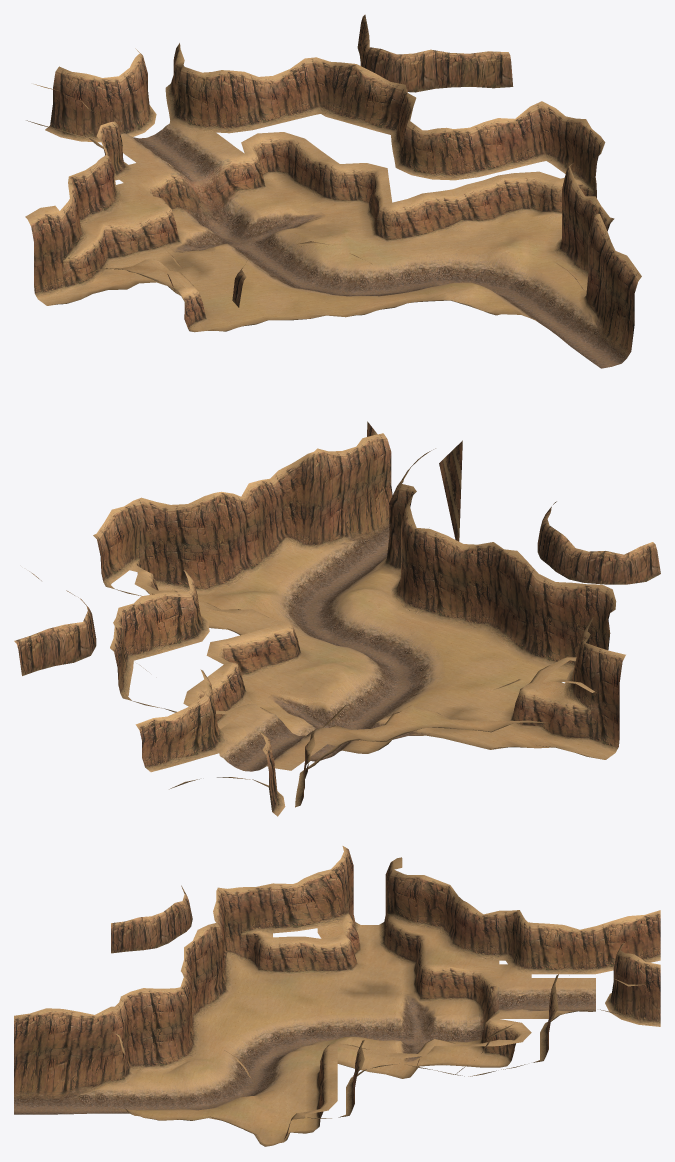
The model's file is Zone02.glb.
The picture shows the model from 3 angles, top to bottom: view 1: azimuth 30°, elevation 25°; view 2: azimuth 150°, elevation 25°; view 3: azimuth 270°, elevation 25°; orthographic projection. The views are drawn at different scales.
Visible parts, largest first — view 1: ZONE02118, ZONE02184, ZONE02193, ZONE02203, ZONE02198, ZONE02119, ZONE02008, ZONE02166, ZONE02114, ZONE02002, ZONE02177, ZONE02162 (+72 smaller); view 2: ZONE02067, ZONE02052, ZONE02101, ZONE02014, ZONE02033, ZONE02032, ZONE02042, ZONE02043, ZONE02102, ZONE02015, ZONE02005, ZONE02034 (+63 smaller); view 3: ZONE02003, ZONE02, ZONE02006, ZONE02022, ZONE02054, ZONE02206, ZONE02012, ZONE02180, ZONE02133, ZONE02158, ZONE02011, ZONE02070 (+85 smaller).
Boxes of the visible parts, x1,y1,x2,y2 form: ZONE02118: [25, 205, 72, 302]; ZONE02184: [209, 70, 252, 133]; ZONE02193: [162, 67, 209, 141]; ZONE02203: [45, 66, 83, 139]; ZONE02198: [84, 76, 123, 142]; ZONE02119: [60, 202, 102, 294]; ZONE02008: [574, 214, 610, 331]; ZONE02166: [365, 66, 404, 134]; ZONE02114: [435, 127, 477, 180]; ZONE02002: [609, 256, 641, 357]; ZONE02177: [326, 62, 365, 125]; ZONE02162: [214, 153, 261, 219]; ZONE02067: [159, 501, 207, 593]; ZONE02052: [207, 491, 256, 592]; ZONE02101: [579, 646, 625, 756]; ZONE02014: [294, 448, 344, 572]; ZONE02033: [416, 529, 463, 627]; ZONE02032: [448, 542, 493, 634]; ZONE02042: [525, 574, 571, 671]; ZONE02043: [493, 558, 538, 663]; ZONE02102: [547, 645, 594, 748]; ZONE02015: [270, 454, 307, 553]; ZONE02005: [342, 438, 380, 545]; ZONE02034: [384, 523, 429, 619]; ZONE02003: [46, 1008, 79, 1099]; ZONE02: [14, 1008, 46, 1099]; ZONE02006: [78, 1007, 111, 1098]; ZONE02022: [143, 988, 175, 1075]; ZONE02054: [240, 883, 272, 965]; ZONE02206: [628, 958, 660, 1026]; ZONE02012: [111, 1002, 143, 1099]; ZONE02180: [531, 922, 563, 974]; ZONE02133: [394, 879, 447, 966]; ZONE02158: [466, 911, 499, 964]; ZONE02011: [119, 988, 143, 1075]; ZONE02070: [272, 882, 316, 933].
Size of the model in its own units: 136 by 32.95 by 160.
Materials: 19 (19 with a texture image).
